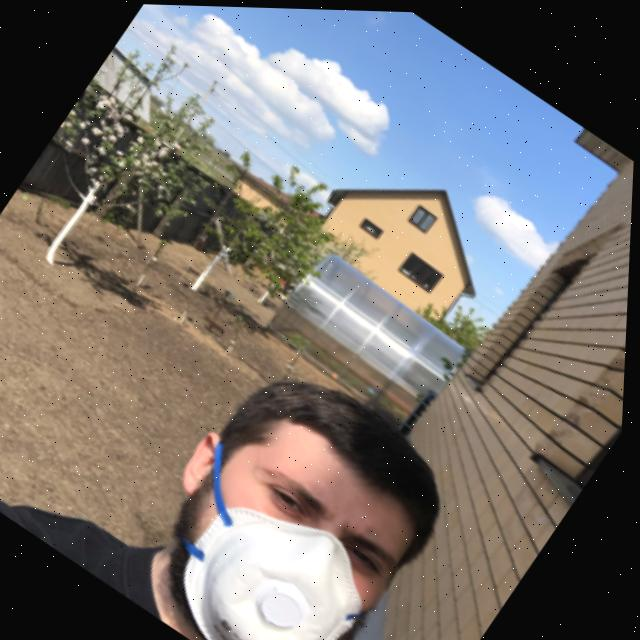Mask: (116, 434, 415, 640)
